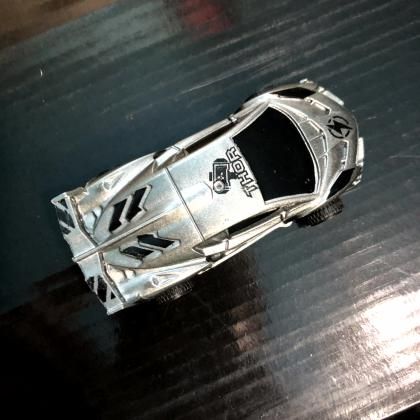Car: (50, 80, 365, 316)
